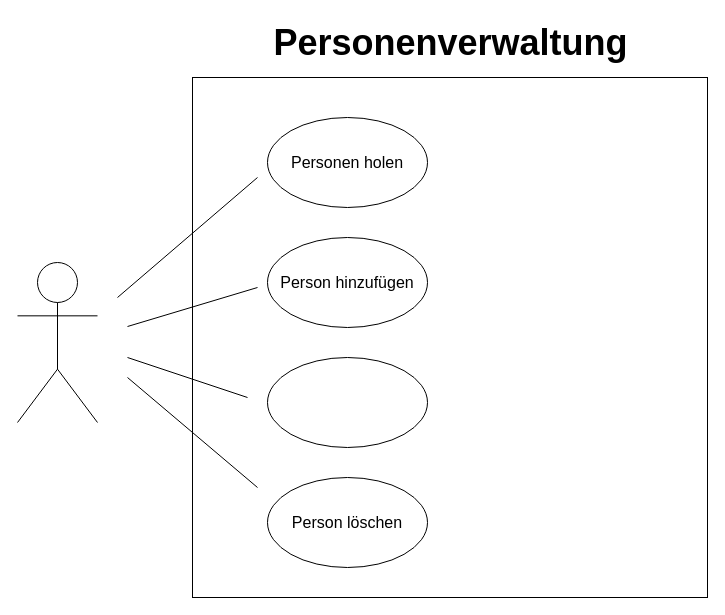
This 725x615 diagram has some shape labels left out. Each missing label, with the box of its shape:
Benutzer: (16, 262, 98, 422)
Person bearbeiten: (266, 356, 428, 448)
